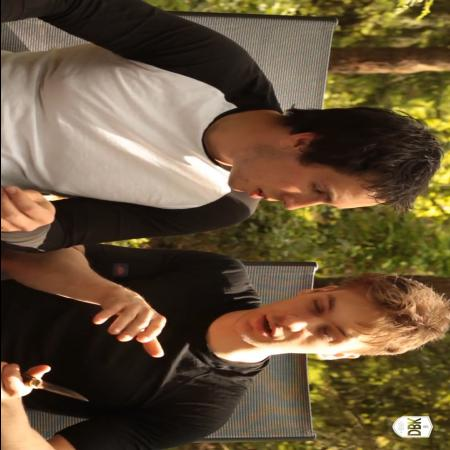long weapon: (1, 357, 100, 405)
